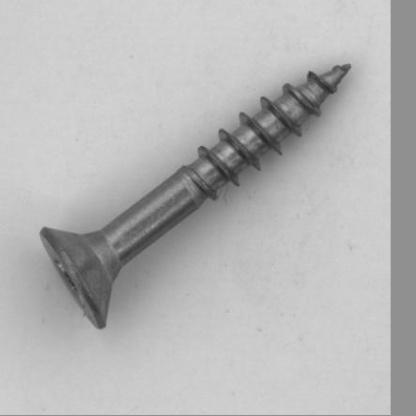metal: (38, 62, 351, 329)
